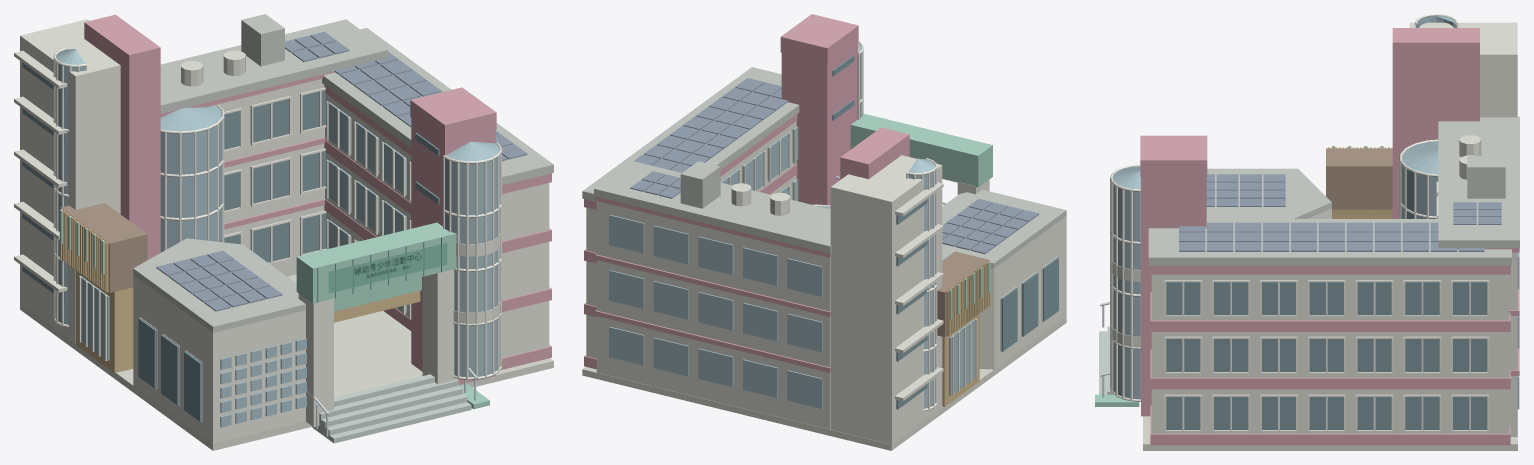
File: dot-W1.glb
3 views of the same model, side by side, from view 1: azimuth 30°, elevation 25°; view 2: azimuth 150°, elevation 25°; view 3: azimuth 270°, elevation 25° (orthographic). The views are drawn at different scales.
Visible parts, largest first — view 1: W1_ivory_tile, building_foundation, official_name_print; view 2: W1_ivory_tile, building_foundation; view 3: W1_ivory_tile, building_foundation.
Part boxes in pixels (box(x1,y1,x2,y2)): W1_ivory_tile: box(14, 14, 553, 443); building_foundation: box(20, 274, 553, 450); official_name_print: box(328, 243, 447, 293); W1_ivory_tile: box(582, 14, 1066, 444); building_foundation: box(582, 317, 1066, 450); W1_ivory_tile: box(1095, 14, 1519, 445); building_foundation: box(1143, 409, 1517, 450).
Bounding box in the file's own units: 5.49 × 4.28 × 5.82.
3 materials, 3 textured.
